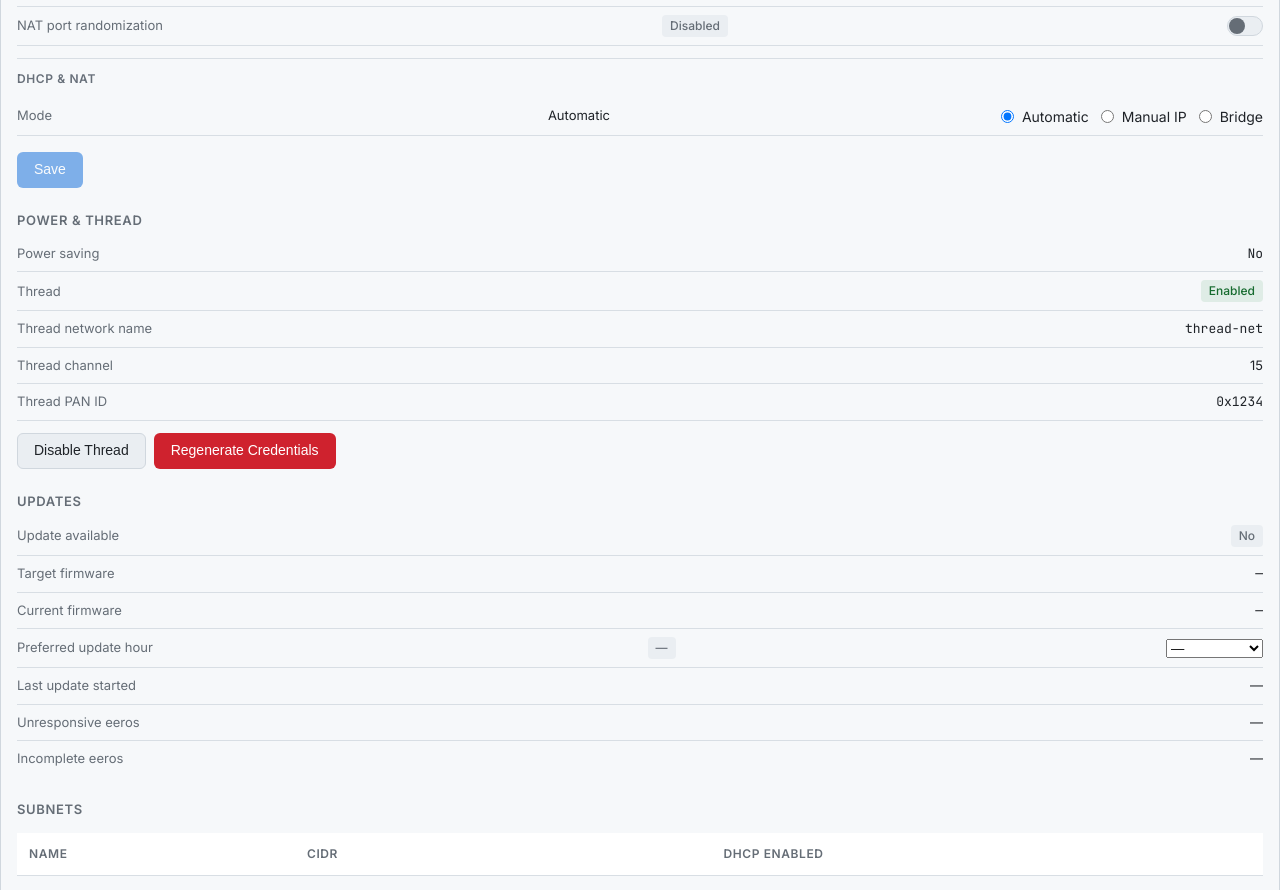
Scenario: SecurityWanCard › a successful Thread toggle confirmation re-fetches the security/WAN state
The width and height of the screenshot is (1280, 890).
(page scrolled)
Click the button "Disable Thread" at (81, 451), box [17,433,146,469]
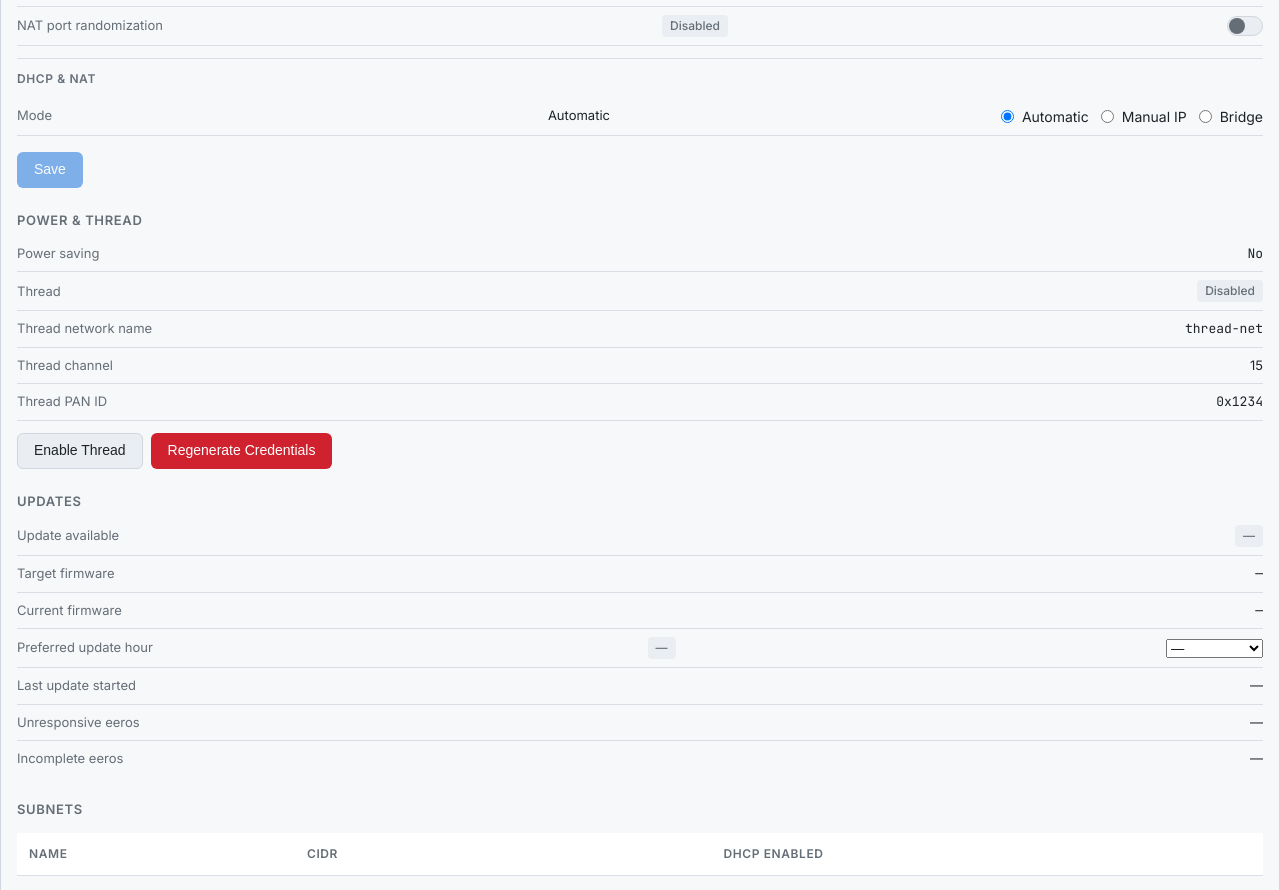
Expected: the button "Enable Thread" is shown, [17,433,143,469]
